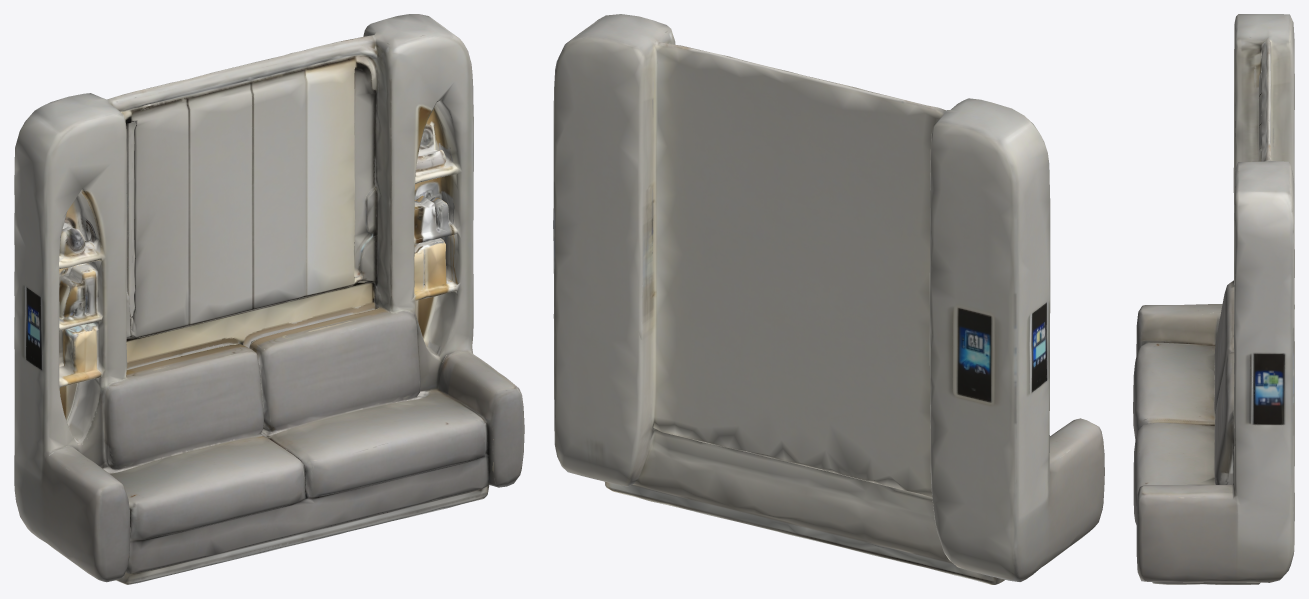
The model's file is Meshy_AI_Lumina_Wardrobe_Loung_0304132209_texture.glb.
The picture shows the model from 3 angles, left to right: view 1: azimuth 30°, elevation 25°; view 2: azimuth 150°, elevation 25°; view 3: azimuth 270°, elevation 25°; orthographic projection. The views are drawn at different scales.
Visible parts, largest first — view 1: Mesh1.0; view 2: Mesh1.0; view 3: Mesh1.0.
Boxes of the visible parts, x1,y1,x2,y2 form: Mesh1.0: [14, 14, 524, 584]; Mesh1.0: [553, 14, 1104, 584]; Mesh1.0: [1133, 14, 1294, 584].
Bounding box in the file's own units: 2.01 × 1.94 × 0.7006.
1 material, 1 textured.
